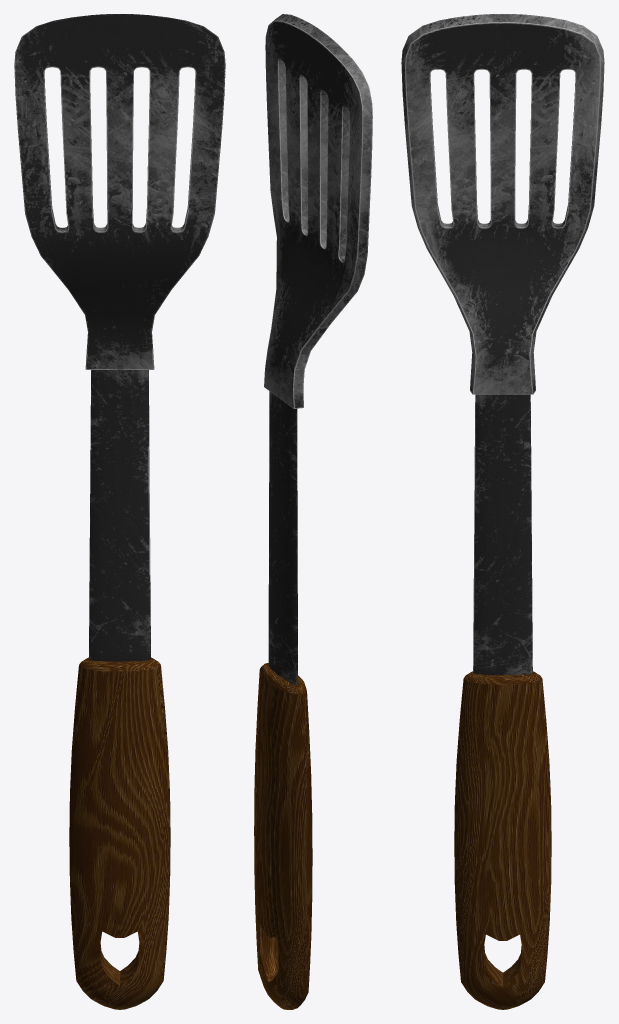
Rendered from SteelSpatula.fbx.
3 renders of one model, left to right at view 1: azimuth 90°, elevation 25°; view 2: azimuth 210°, elevation 25°; view 3: azimuth 270°, elevation 25°, orthographic. The views are drawn at different scales.
Parts seen in each view (by area): view 1: SteelSpatula; view 2: SteelSpatula; view 3: SteelSpatula.
Boxes of the visible parts, bbox=[...] form: SteelSpatula: bbox=[14, 14, 225, 1009]; SteelSpatula: bbox=[254, 14, 372, 1009]; SteelSpatula: bbox=[401, 14, 604, 1009].
Size of the model in its own units: 0.2745 by 4.52 by 0.8529.
